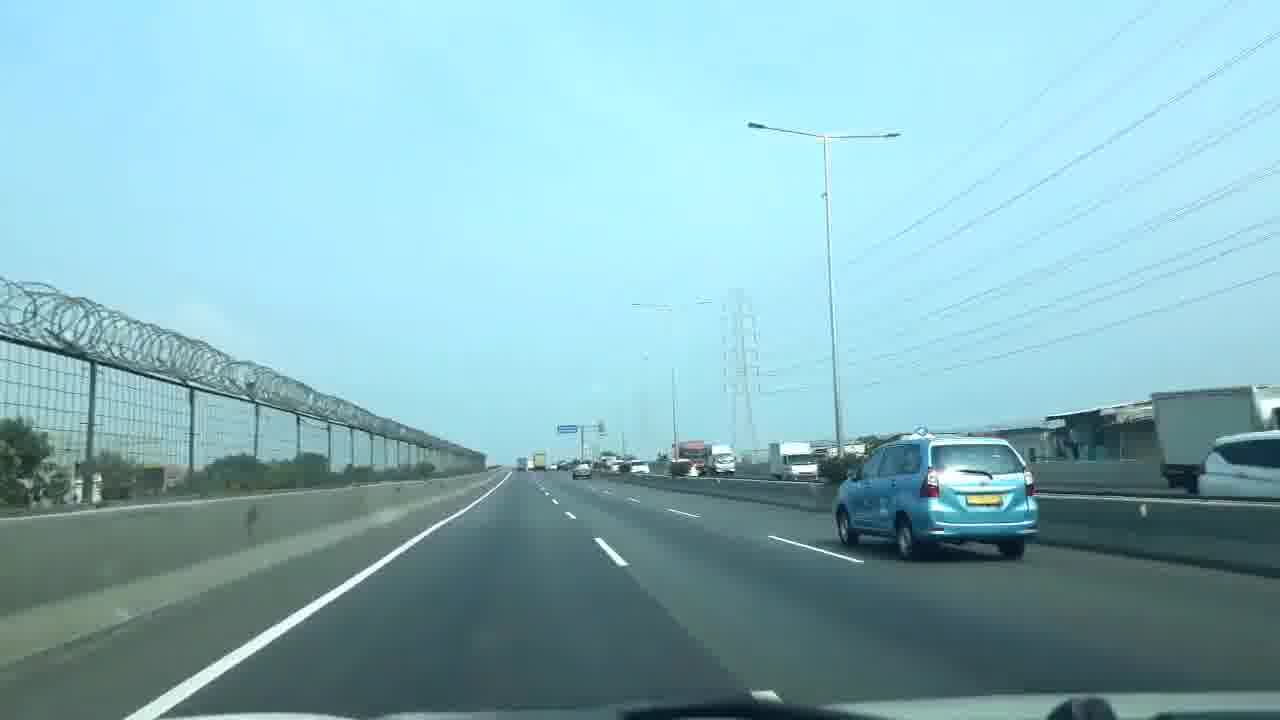plate_positive: (966, 494, 1002, 506)
